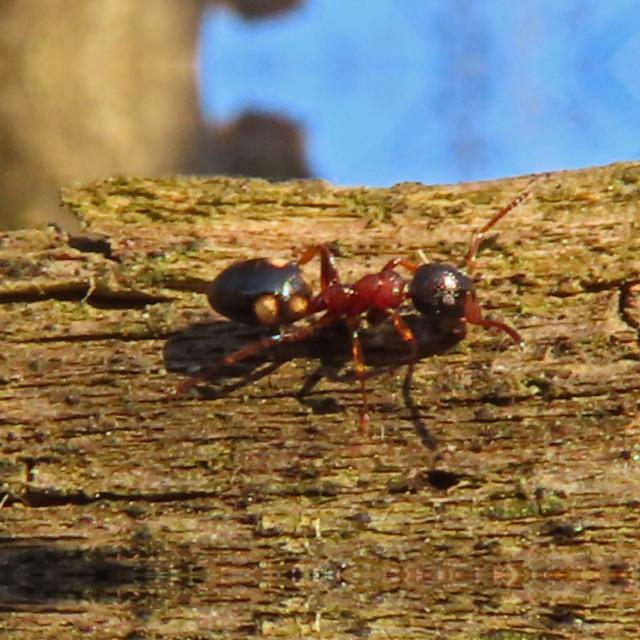Dolichoderus: (170, 216, 530, 382)
